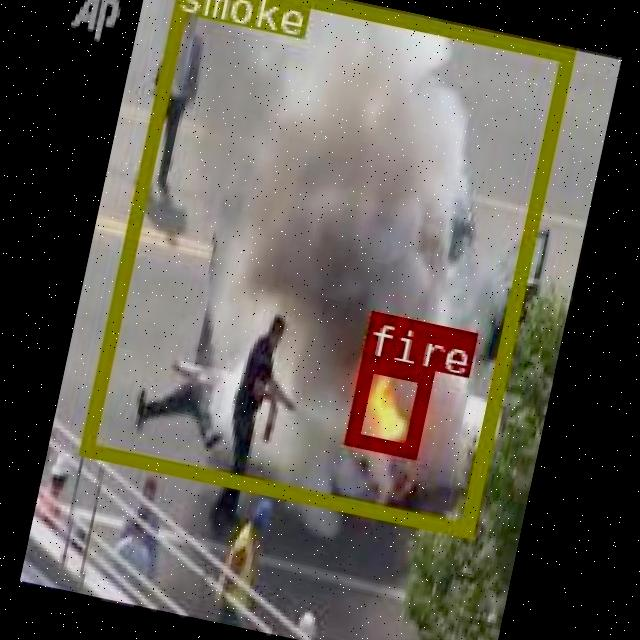fire: (342, 354, 429, 456)
smoke: (77, 0, 573, 534)
